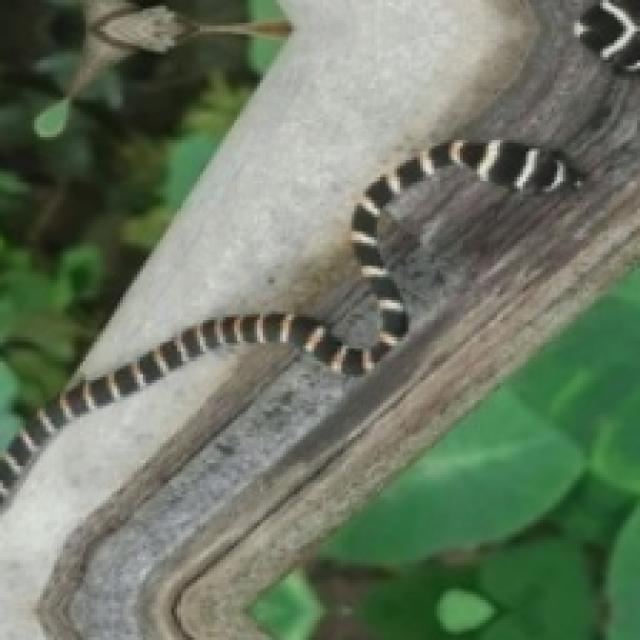paradise tree snake: (0, 0, 637, 637), (263, 134, 583, 380)
